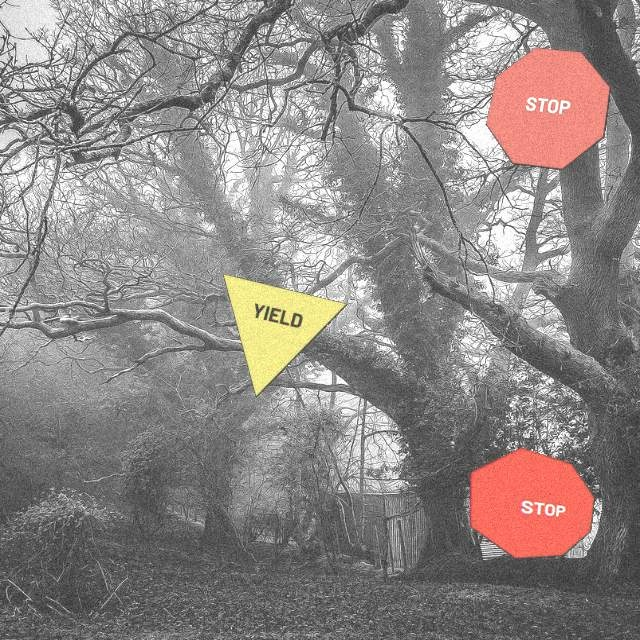STOP: (485, 47, 611, 170), (469, 447, 595, 559)
YIELD: (222, 273, 348, 398)
